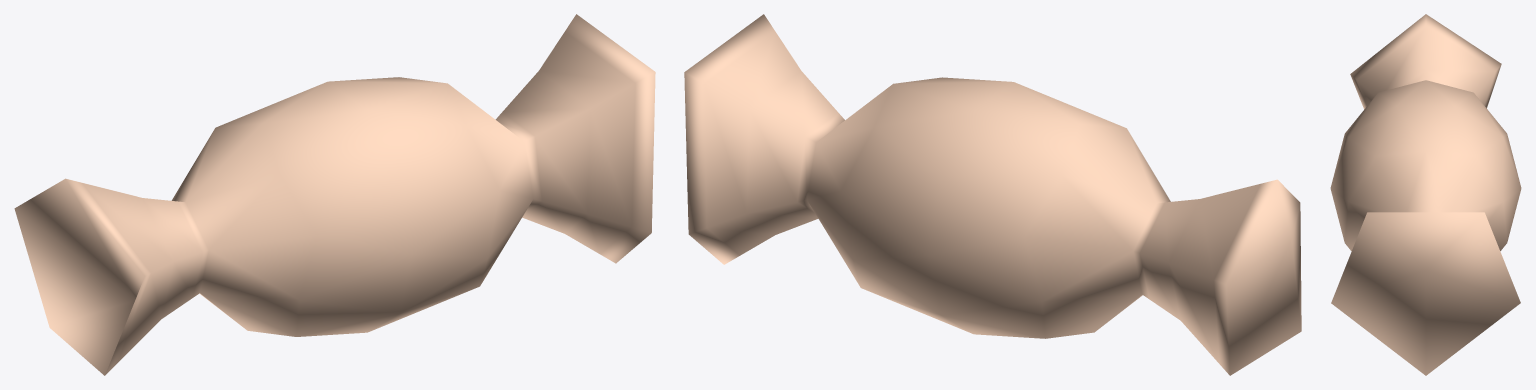
Rendered from Candy_01.fbx.
The picture shows the model from 3 angles, left to right: view 1: azimuth 30°, elevation 25°; view 2: azimuth 150°, elevation 25°; view 3: azimuth 270°, elevation 25°; orthographic projection. The views are drawn at different scales.
Parts seen in each view (by area): view 1: Candy_01; view 2: Candy_01; view 3: Candy_01.
Boxes of the visible parts, x1,y1,x2,y2 form: Candy_01: (14, 14, 655, 375); Candy_01: (684, 14, 1301, 375); Candy_01: (1330, 14, 1521, 375).
Bounding box in the file's own units: 1.71 × 0.692 × 0.6932.
